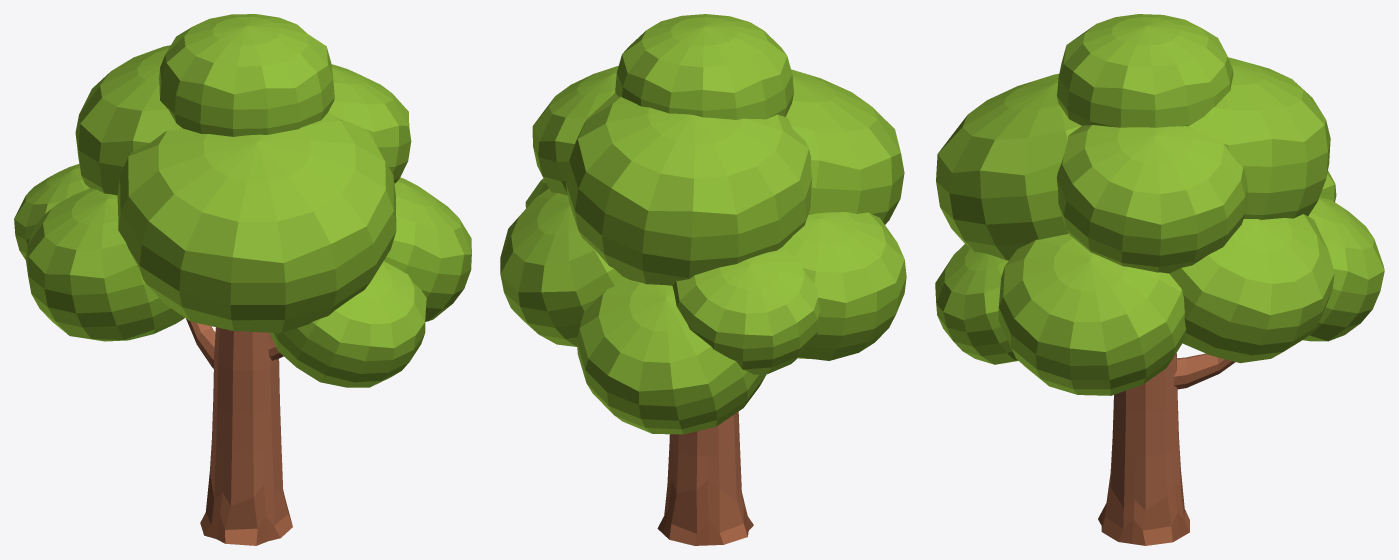
3 views of the same model, side by side, from view 1: azimuth 30°, elevation 25°; view 2: azimuth 150°, elevation 25°; view 3: azimuth 270°, elevation 25° (orthographic).
Visible parts, largest first — view 1: Listva, Stvol; view 2: Listva, Stvol; view 3: Listva, Stvol.
Boxes of the visible parts, bbox=[...] form: Listva: bbox=[14, 14, 471, 387]; Stvol: bbox=[186, 318, 292, 545]; Listva: bbox=[500, 14, 906, 434]; Stvol: bbox=[657, 411, 753, 545]; Listva: bbox=[935, 14, 1384, 395]; Stvol: bbox=[1098, 353, 1235, 545].
Size of the model in its own units: 10.49 by 12.98 by 10.58.
Materials: 1 (1 with a texture image).
